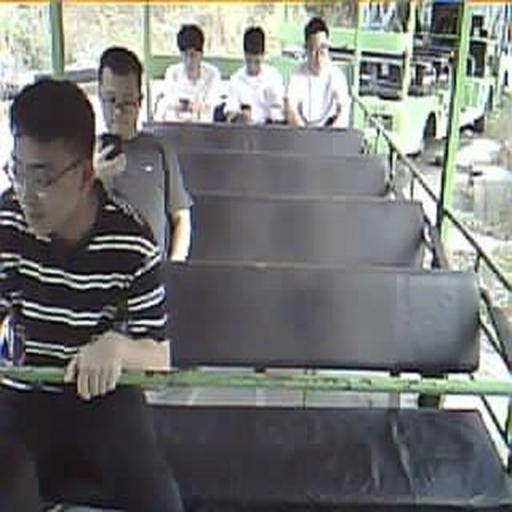persona: (0, 76, 186, 511), (92, 46, 195, 264), (286, 16, 352, 129), (154, 22, 226, 123), (224, 24, 286, 125)
